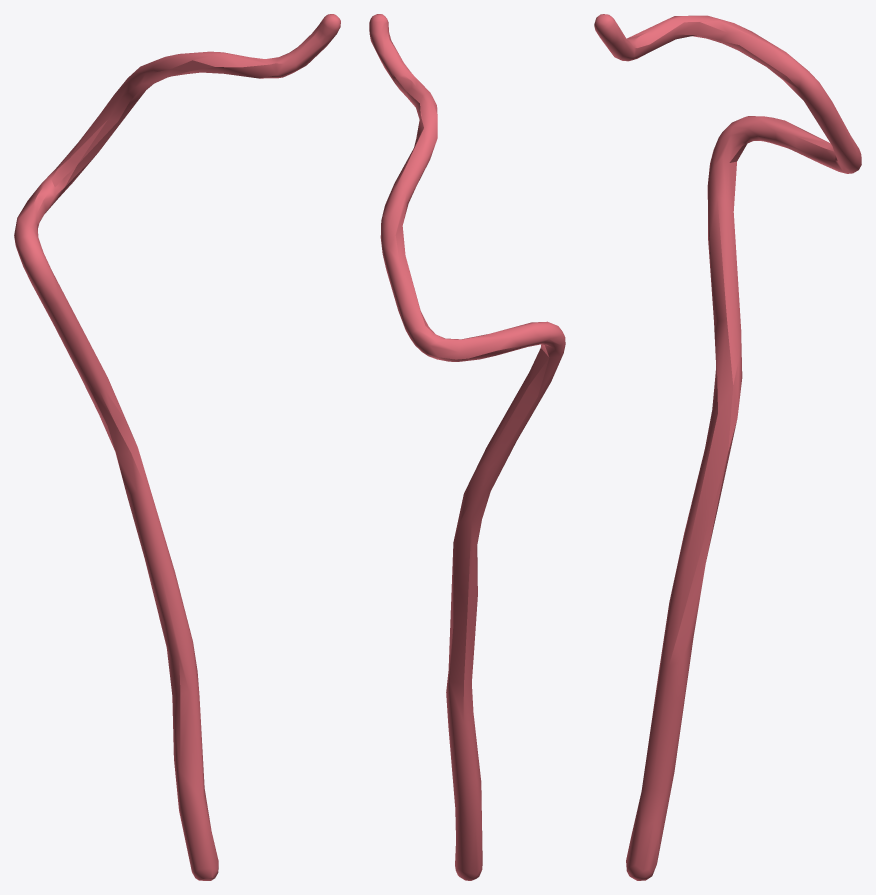
Rendered from fma76261_fj1725.glb.
3 views of the same model, side by side, from view 1: azimuth 30°, elevation 25°; view 2: azimuth 150°, elevation 25°; view 3: azimuth 270°, elevation 25° (orthographic). The views are drawn at different scales.
Parts seen in each view (by area): view 1: FMA76261_FJ1725; view 2: FMA76261_FJ1725; view 3: FMA76261_FJ1725.
Part boxes in pixels (<box>): FMA76261_FJ1725: <box>14,14,340,880</box>; FMA76261_FJ1725: <box>369,14,565,880</box>; FMA76261_FJ1725: <box>594,14,861,880</box>.
Size of the model in its own units: 0.034 by 0.1076 by 0.0283.
